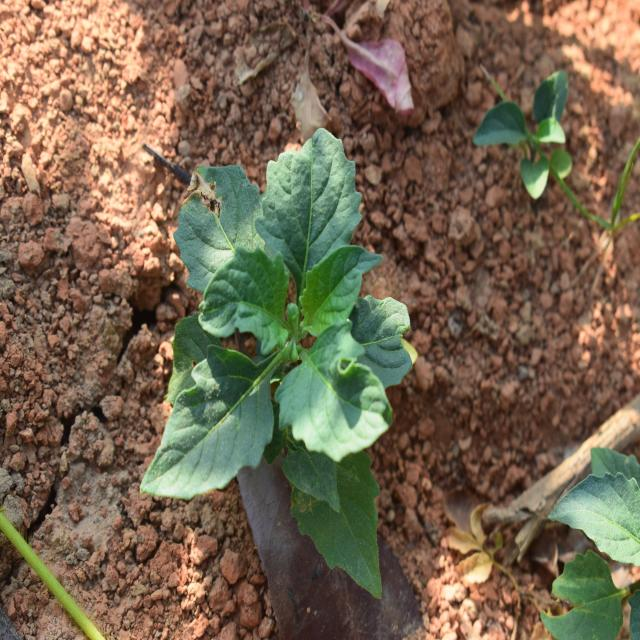Black_nightshade: (153, 139, 411, 577)
